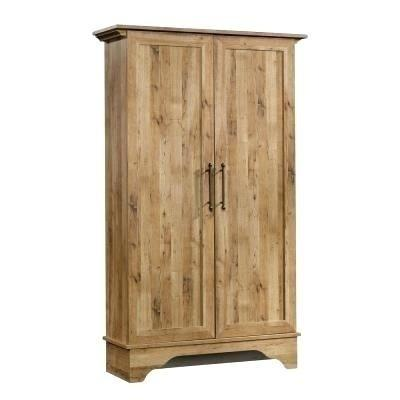cabinet_door: (121, 40, 215, 345), (214, 41, 285, 337)
handle: (204, 161, 215, 213), (219, 161, 228, 212)
